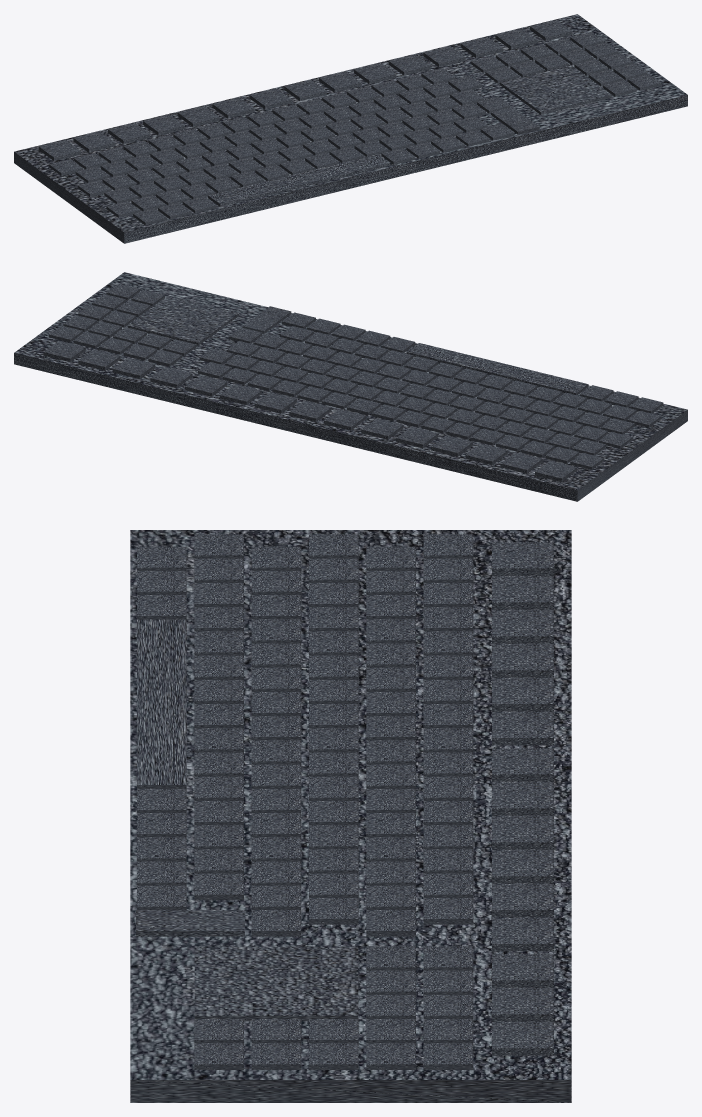
The model's file is keyboard.fbx.
3 views of the same model, one above another, from view 1: azimuth 30°, elevation 25°; view 2: azimuth 150°, elevation 25°; view 3: azimuth 270°, elevation 25° (orthographic). The views are drawn at different scales.
Parts seen in each view (by area): view 1: Cube, Cube.049, Cube.124, Cube.119, Cube.002, Cube.003, Cube.007, Cube.008, Cube.010, Cube.013, Cube.004, Cube.005 (+52 smaller); view 2: Cube, Cube.049, Cube.124, Cube.119, Cube.002, Cube.014, Cube.001, Cube.003, Cube.010, Cube.013, Cube.004, Cube.007 (+63 smaller); view 3: Cube, Cube.049, Cube.124, Cube.119, Cube.001, Cube.002, Cube.003, Cube.004, Cube.005, Cube.006, Cube.007, Cube.008 (+110 smaller).
Boxes of the visible parts, x1,y1,x2,y2 form: Cube: (14,14,687,243); Cube.049: (500,65,611,114); Cube.124: (208,154,389,207); Cube.119: (491,107,539,134); Cube.002: (73,131,115,152); Cube.003: (108,123,150,144); Cube.007: (354,63,396,84); Cube.008: (388,54,430,75); Cube.010: (319,71,361,92); Cube.013: (530,20,572,41); Cube.004: (212,97,254,118); Cube.005: (177,106,219,127); Cube: (14,272,687,501); Cube.049: (127,296,239,345); Cube.124: (406,343,588,395); Cube.119: (242,306,291,333); Cube.002: (500,452,542,473); Cube.014: (78,349,120,370); Cube.001: (535,460,577,482); Cube.003: (465,444,507,465); Cube.010: (254,392,296,413); Cube.013: (43,341,85,362); Cube.004: (361,418,403,439); Cube.007: (219,384,261,405); Cube: (130,530,571,1102); Cube.049: (194,946,358,1021); Cube.124: (137,619,186,788); Cube.119: (136,910,244,936); Cube.001: (492,542,553,575); Cube.002: (492,576,553,609); Cube.003: (492,610,553,643); Cube.004: (492,712,553,745); Cube.005: (492,678,553,711); Cube.006: (492,644,553,677); Cube.007: (492,850,553,883); Cube.008: (492,884,553,917).
Size of the model in its own units: 2270 by 58.2 by 770.
